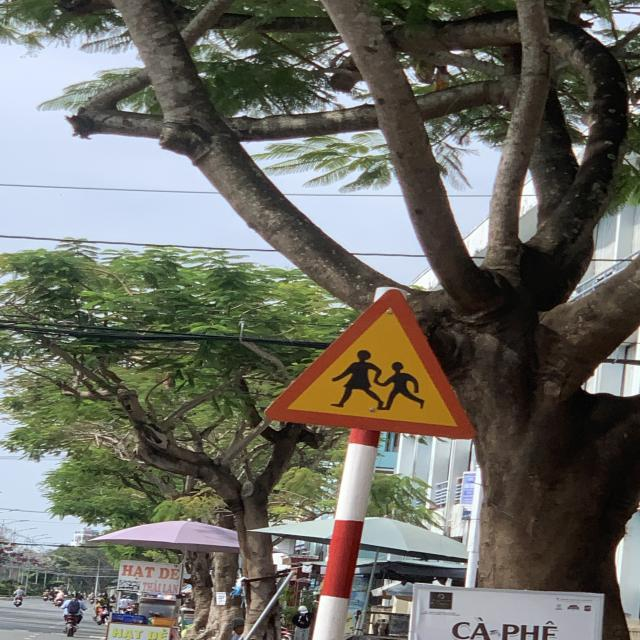Vong_Xuyen: (268, 290, 478, 439)
